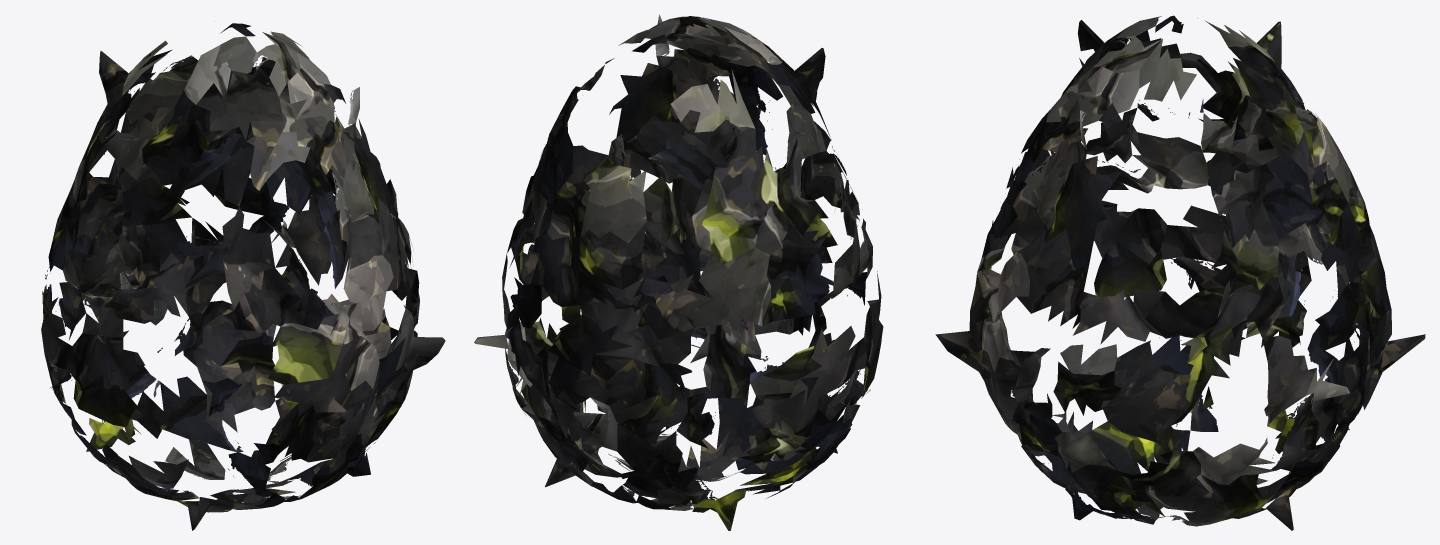
The model's file is ash_egg_5k.fbx.
3 views of the same model, side by side, from view 1: azimuth 30°, elevation 25°; view 2: azimuth 150°, elevation 25°; view 3: azimuth 270°, elevation 25° (orthographic). The views are drawn at different scales.
Visible parts, largest first — view 1: ash_egg_decimated; view 2: ash_egg_decimated; view 3: ash_egg_decimated.
Boxes of the visible parts, bbox=[...] form: ash_egg_decimated: bbox=[41, 23, 445, 530]; ash_egg_decimated: bbox=[474, 14, 883, 530]; ash_egg_decimated: bbox=[935, 15, 1425, 530].
Bounding box in the file's own units: 1.56 × 1.91 × 1.74.
